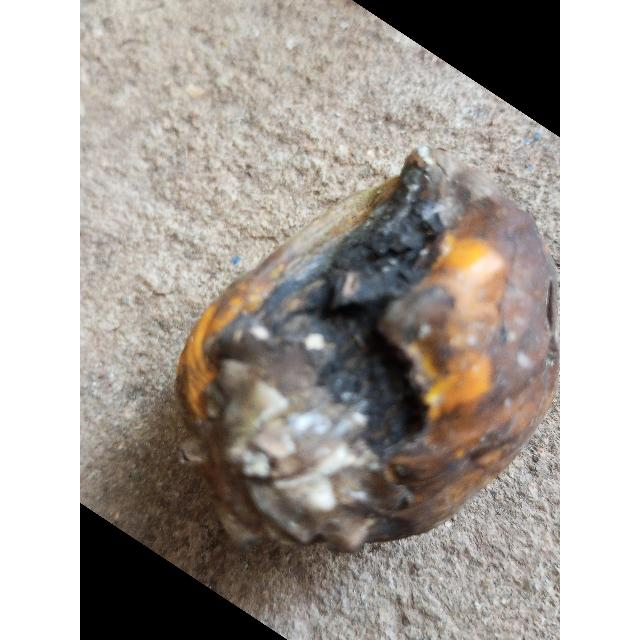damaged: (174, 151, 560, 558)
